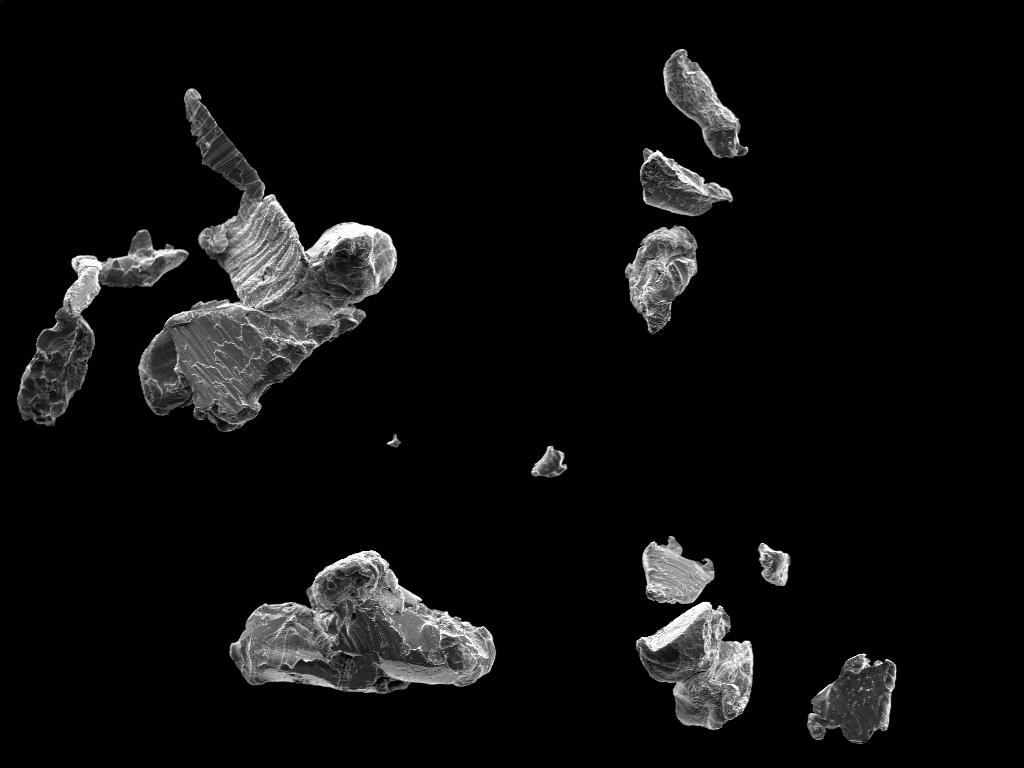Powder: (140, 90, 396, 430), (230, 550, 496, 693), (18, 230, 188, 424), (636, 602, 752, 729), (664, 50, 748, 157), (808, 654, 896, 743), (626, 226, 696, 333), (640, 148, 731, 215), (642, 536, 714, 603), (758, 544, 790, 586), (532, 446, 566, 477)
